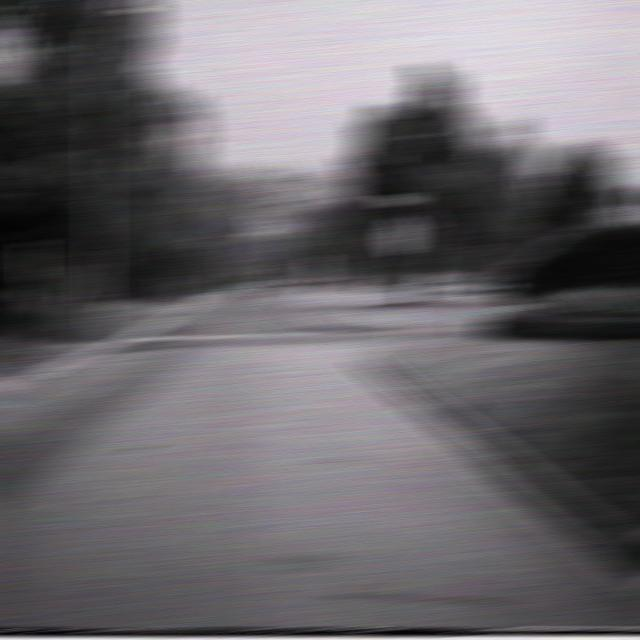stop: (383, 217, 418, 254)
